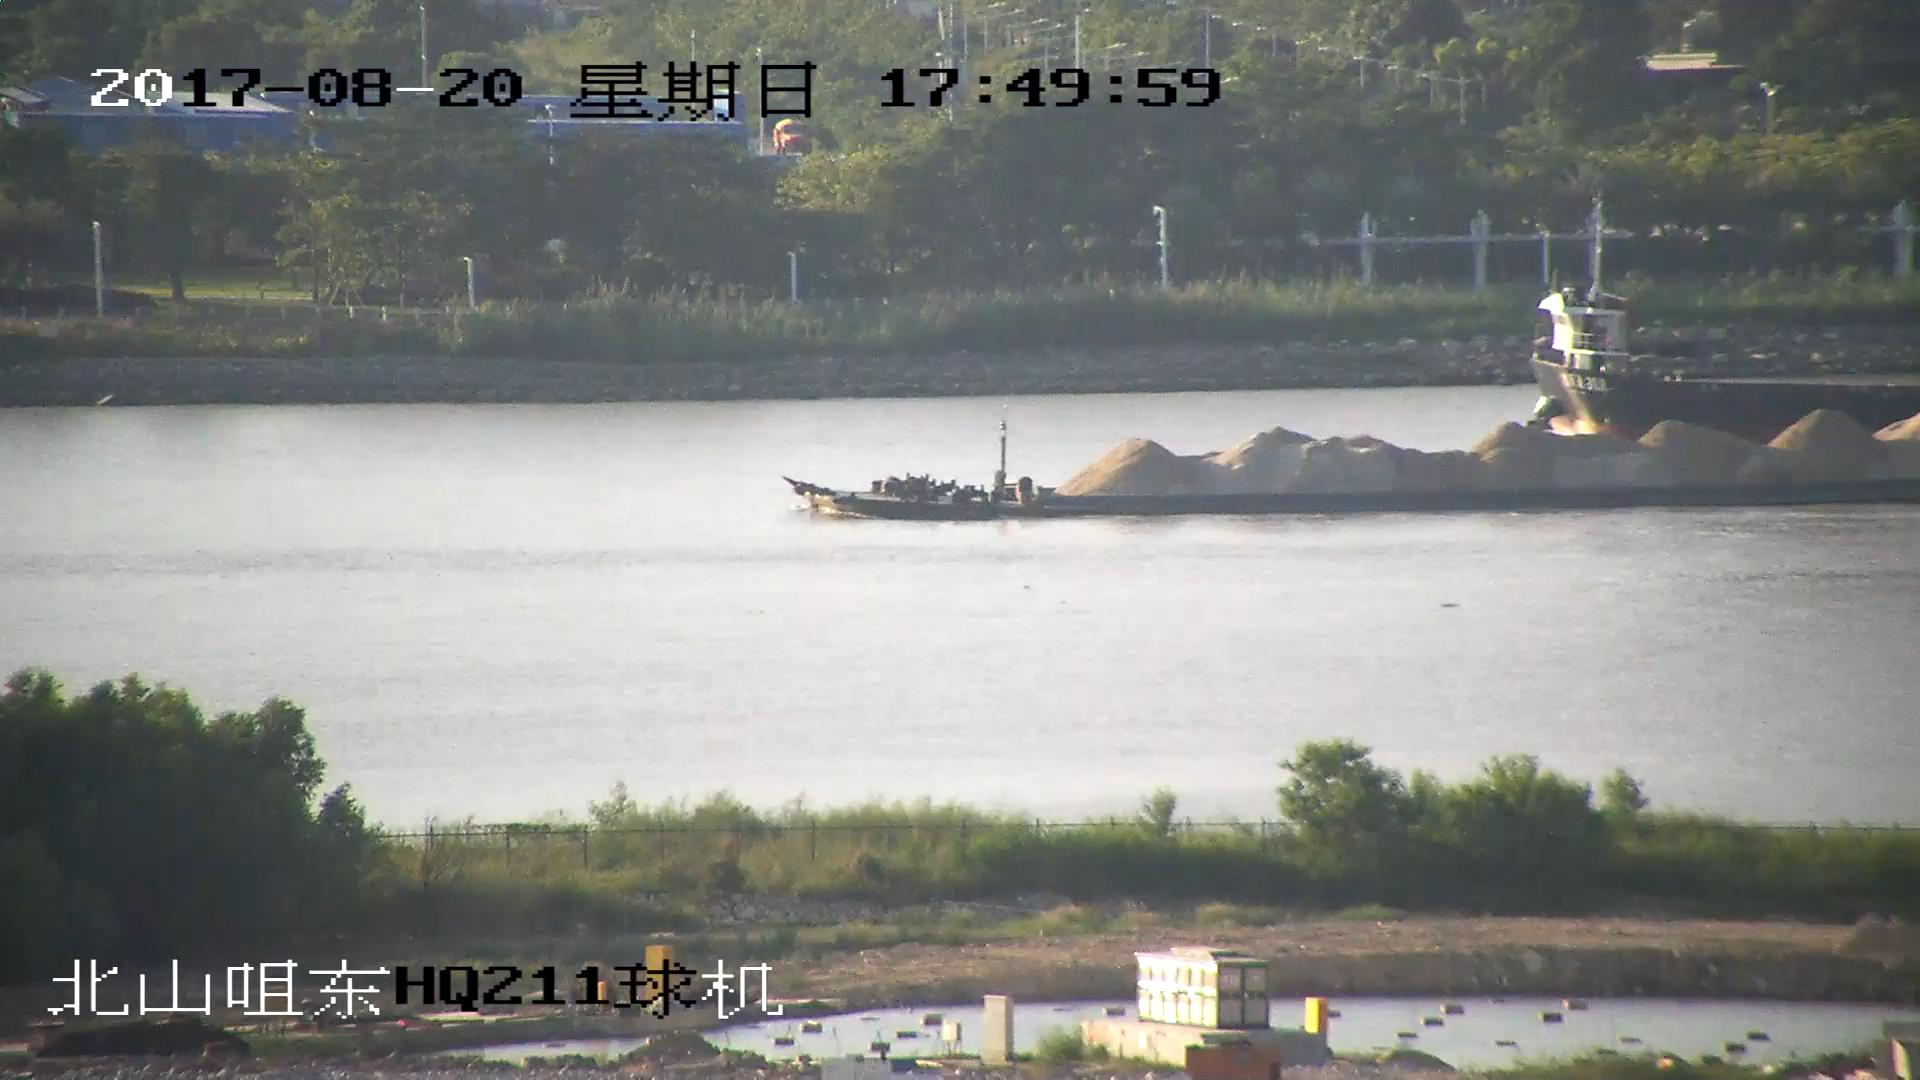general cargo ship: (1536, 203, 1920, 441)
ore carrier: (795, 414, 1920, 520)
